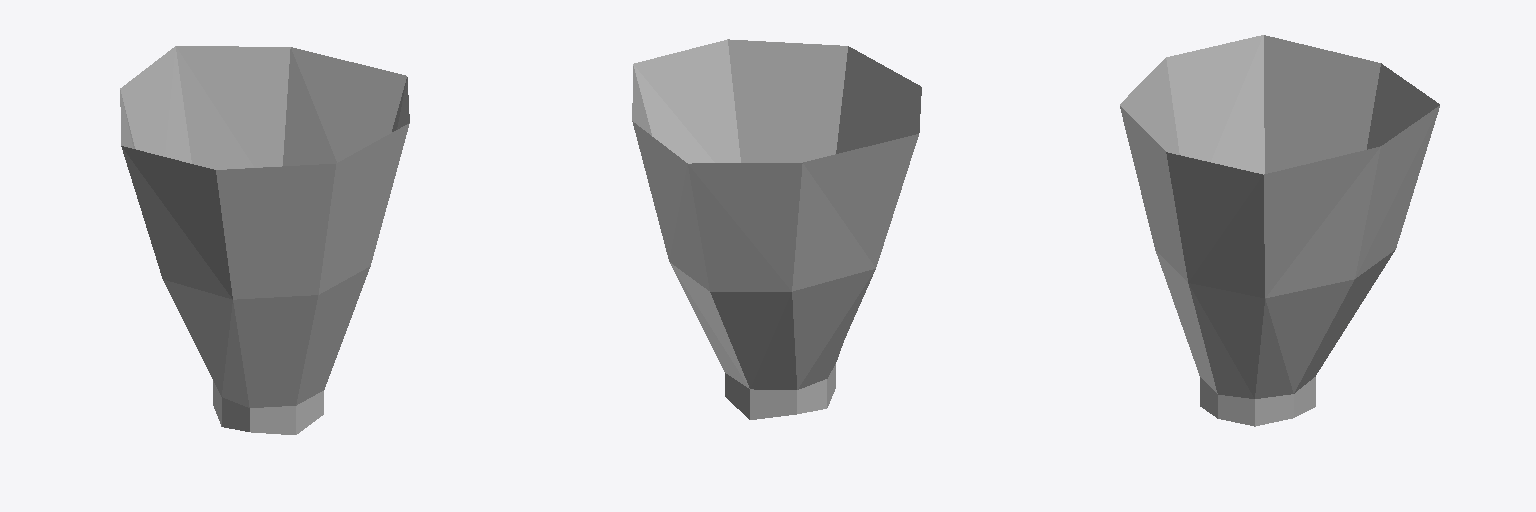
The model's file is queue_1.obj.
3 renders of one model, left to right at view 1: azimuth 30°, elevation 25°; view 2: azimuth 150°, elevation 25°; view 3: azimuth 270°, elevation 25°, orthographic.
Visible parts, largest first — view 1: queue1_Wolf.008; view 2: queue1_Wolf.008; view 3: queue1_Wolf.008.
Part boxes in pixels (bbox=[...]): queue1_Wolf.008: bbox=[120, 46, 409, 434]; queue1_Wolf.008: bbox=[632, 39, 921, 419]; queue1_Wolf.008: bbox=[1120, 35, 1439, 426].
Size of the model in its own units: 18.62 by 18.8 by 18.09.